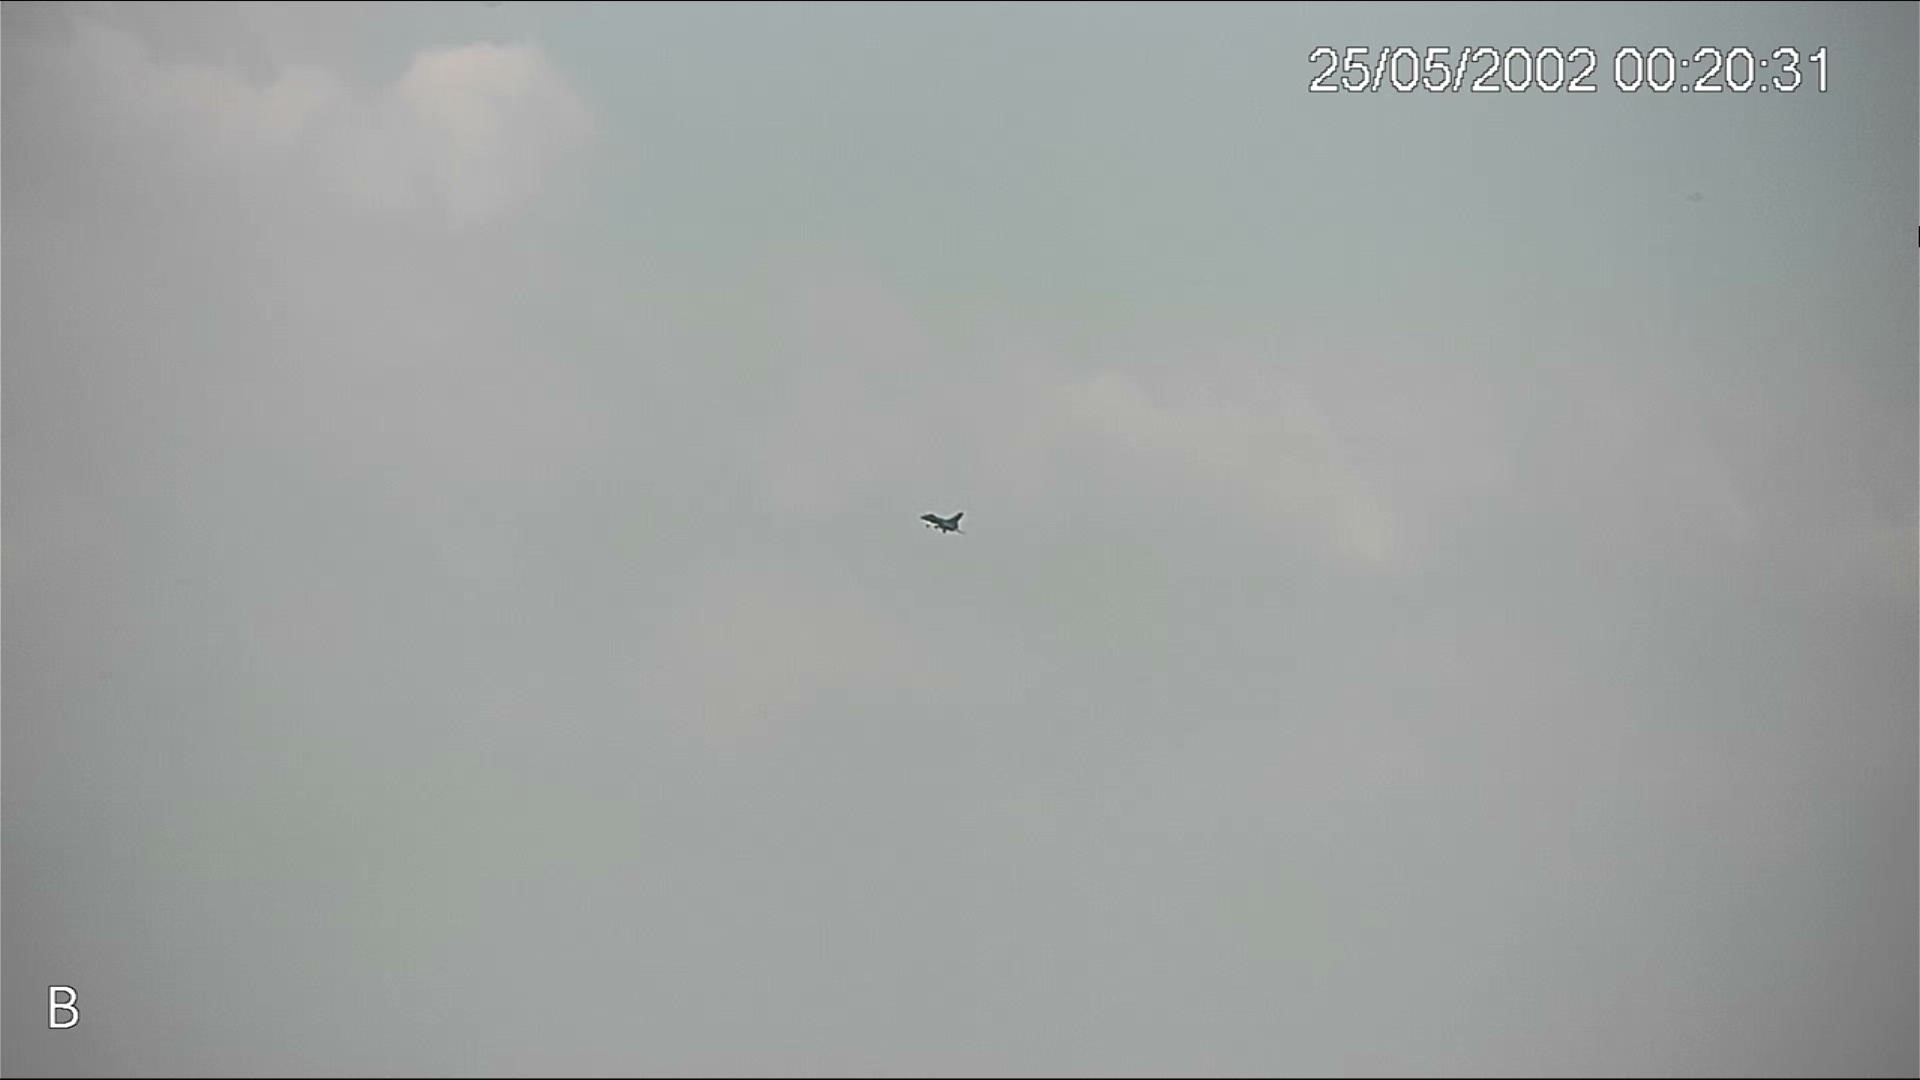SU_30: (918, 508, 968, 539)
